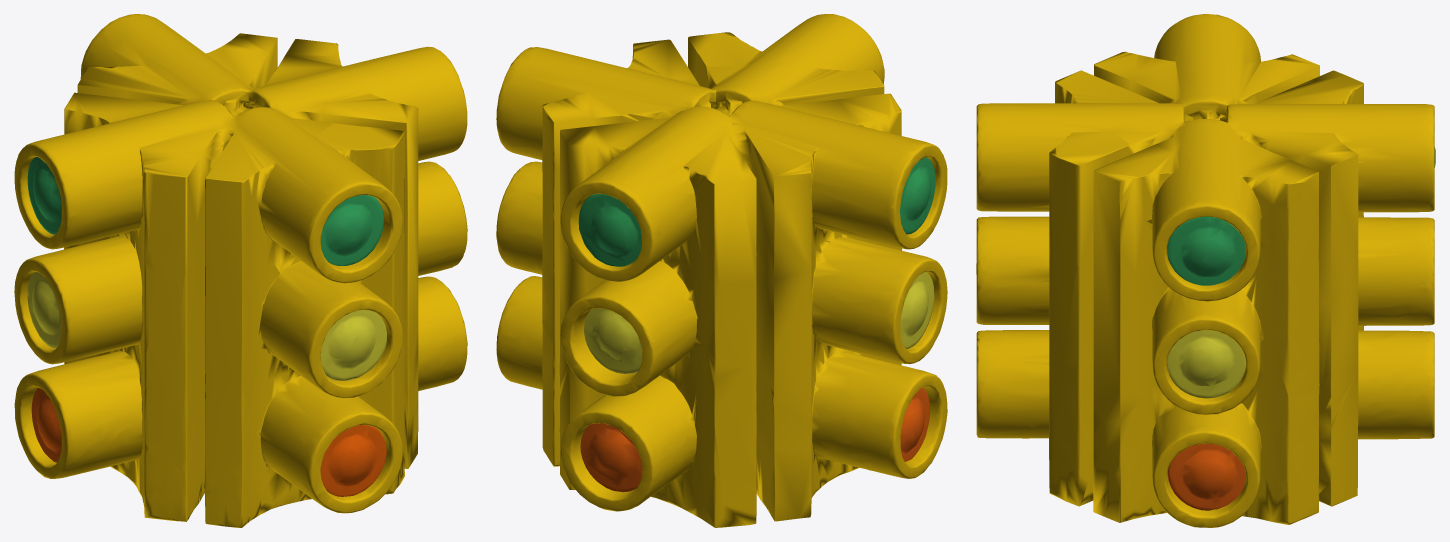
Rendered from tlight-transformed.glb.
The picture shows the model from 3 angles, left to right: view 1: azimuth 30°, elevation 25°; view 2: azimuth 150°, elevation 25°; view 3: azimuth 270°, elevation 25°; orthographic projection.
Parts seen in each view (by area): view 1: Layer_1, Layer_2; view 2: Layer_1, Layer_2; view 3: Layer_1, Layer_2.
Part boxes in pixels (left/top/right/bottom): Layer_1: left=14, top=14, right=467, bottom=527; Layer_2: left=27, top=157, right=386, bottom=496; Layer_1: left=496, top=14, right=947, bottom=527; Layer_2: left=578, top=157, right=935, bottom=492; Layer_1: left=976, top=14, right=1434, bottom=527; Layer_2: left=976, top=147, right=1435, bottom=510.
Bounding box in the file's own units: 0.8448 × 0.7472 × 0.8461.
